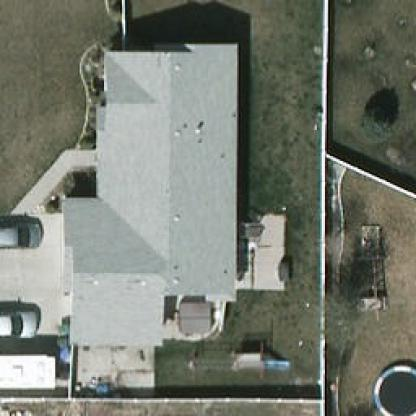camping car: (0, 354, 57, 388)
car: (0, 218, 44, 250)
pickup: (0, 308, 41, 340)
